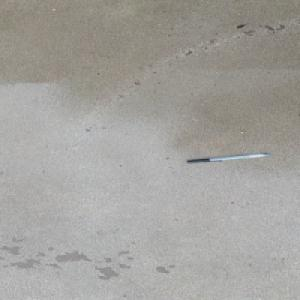Pen: (185, 152, 270, 164)
